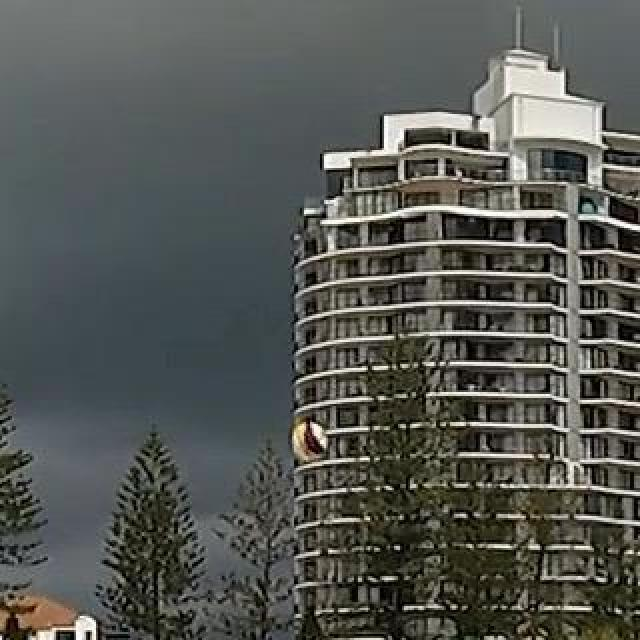volleyball: (293, 423, 327, 461)
